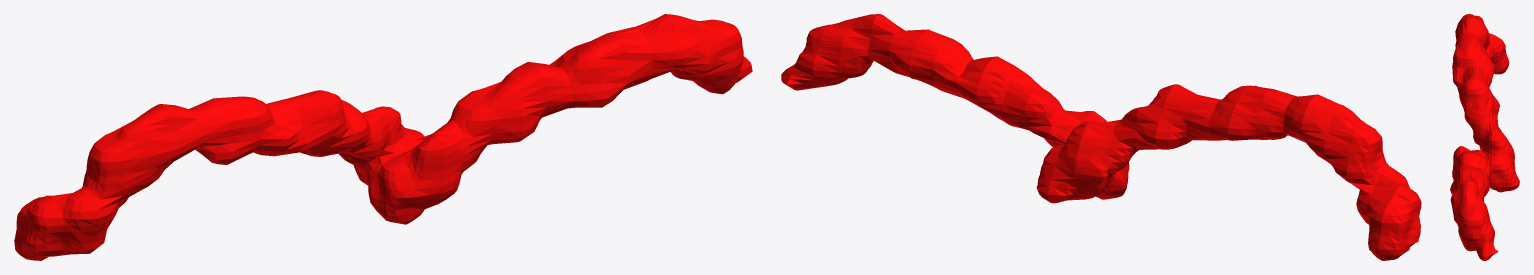
Rendered from Cadherin_1_Epithelial_cadherin_coarse.dae.
The picture shows the model from 3 angles, left to right: view 1: azimuth 30°, elevation 25°; view 2: azimuth 150°, elevation 25°; view 3: azimuth 270°, elevation 25°; orthographic projection. The views are drawn at different scales.
Parts seen in each view (by area): view 1: Cadherin_1_Epithelial_cadherin; view 2: Cadherin_1_Epithelial_cadherin; view 3: Cadherin_1_Epithelial_cadherin.
Boxes of the visible parts, x1=… form: Cadherin_1_Epithelial_cadherin: x1=14, y1=14, x2=752, y2=260; Cadherin_1_Epithelial_cadherin: x1=781, y1=14, x2=1421, y2=260; Cadherin_1_Epithelial_cadherin: x1=1450, y1=14, x2=1519, y2=260.
Bounding box in the file's own units: 358 × 82.57 × 50.4.
